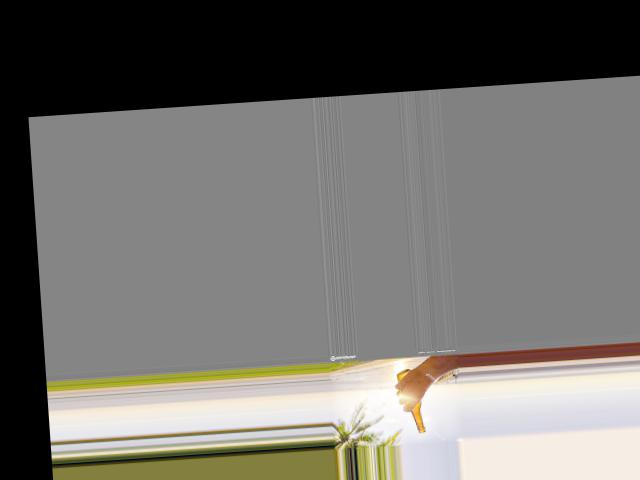beer: (397, 367, 427, 434)
